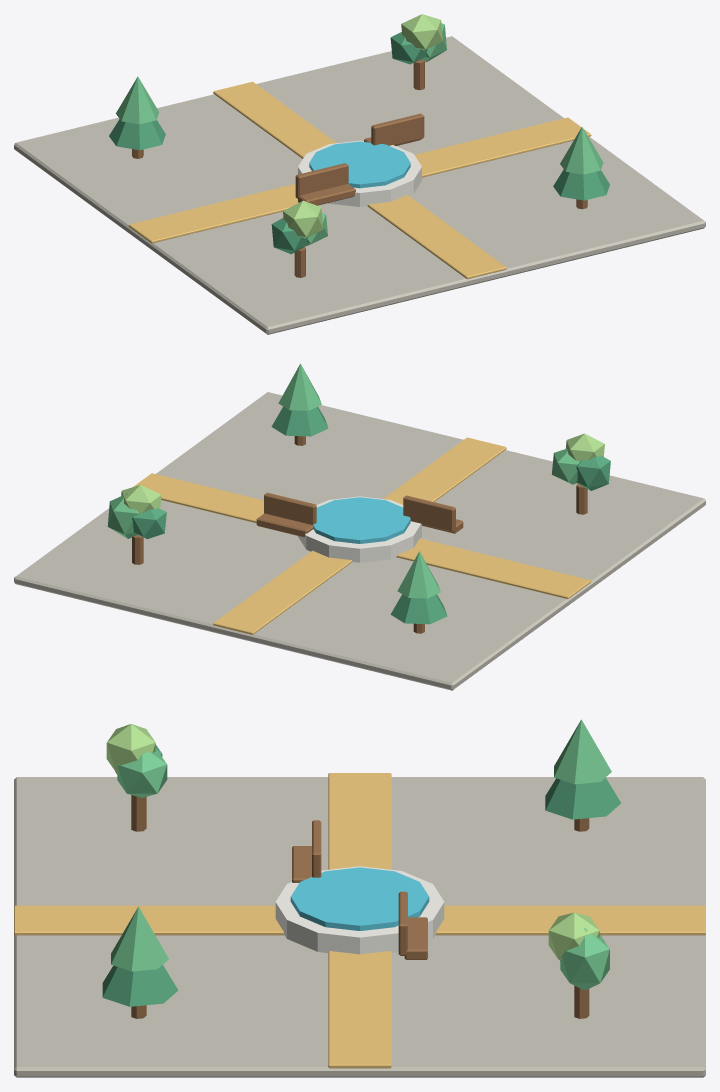
Rendered from PARK_3x3_003.glb.
3 renders of one model, top to bottom at view 1: azimuth 30°, elevation 25°; view 2: azimuth 150°, elevation 25°; view 3: azimuth 270°, elevation 25°, orthographic. The views are drawn at different scales.
Parts seen in each view (by area): view 1: PARK_3x3_003_Visual; view 2: PARK_3x3_003_Visual; view 3: PARK_3x3_003_Visual.
Boxes of the visible parts, x1,y1,x2,y2 form: PARK_3x3_003_Visual: (14,14,705,334); PARK_3x3_003_Visual: (14,363,705,690); PARK_3x3_003_Visual: (14,719,705,1077).
Size of what is drawn, in the model's own units: 5.9 by 1.13 by 5.9.
